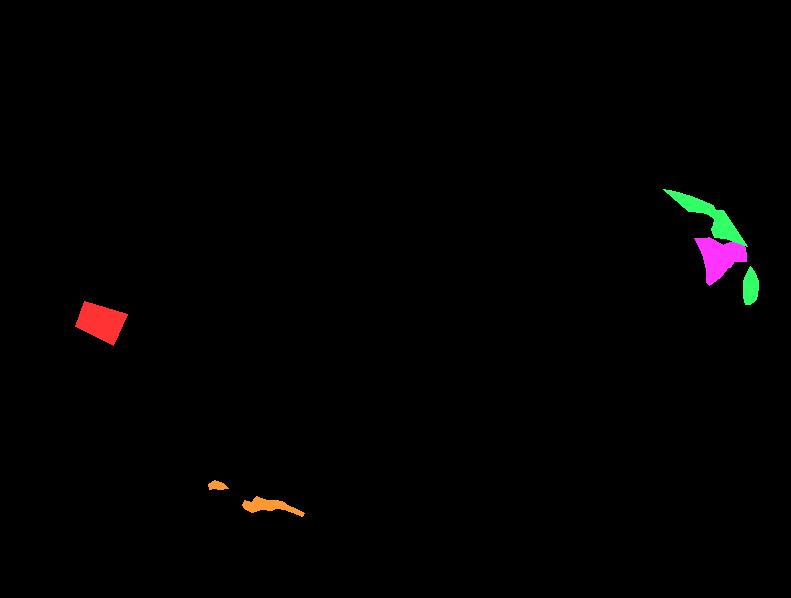Broken part: (663, 189, 747, 246), (743, 266, 758, 304)
Dent: (694, 237, 746, 285)
Missing part: (75, 301, 127, 345)
Paint chip: (242, 496, 304, 516), (208, 480, 228, 489)
